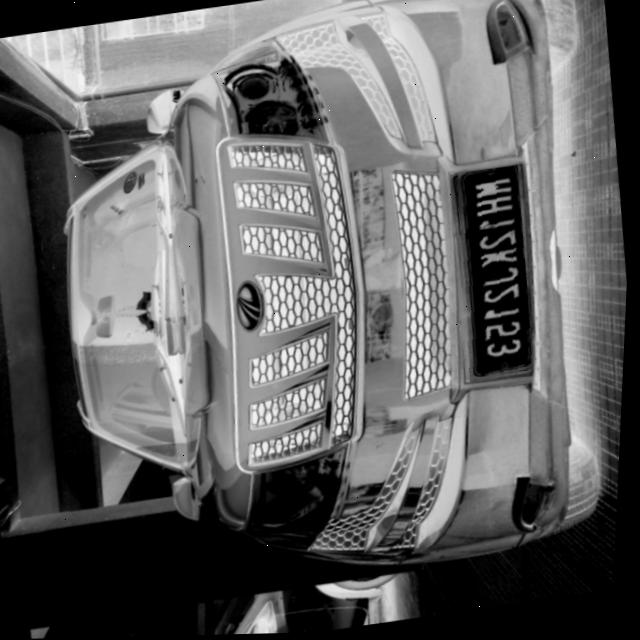Non_registered: (444, 165, 544, 384)
